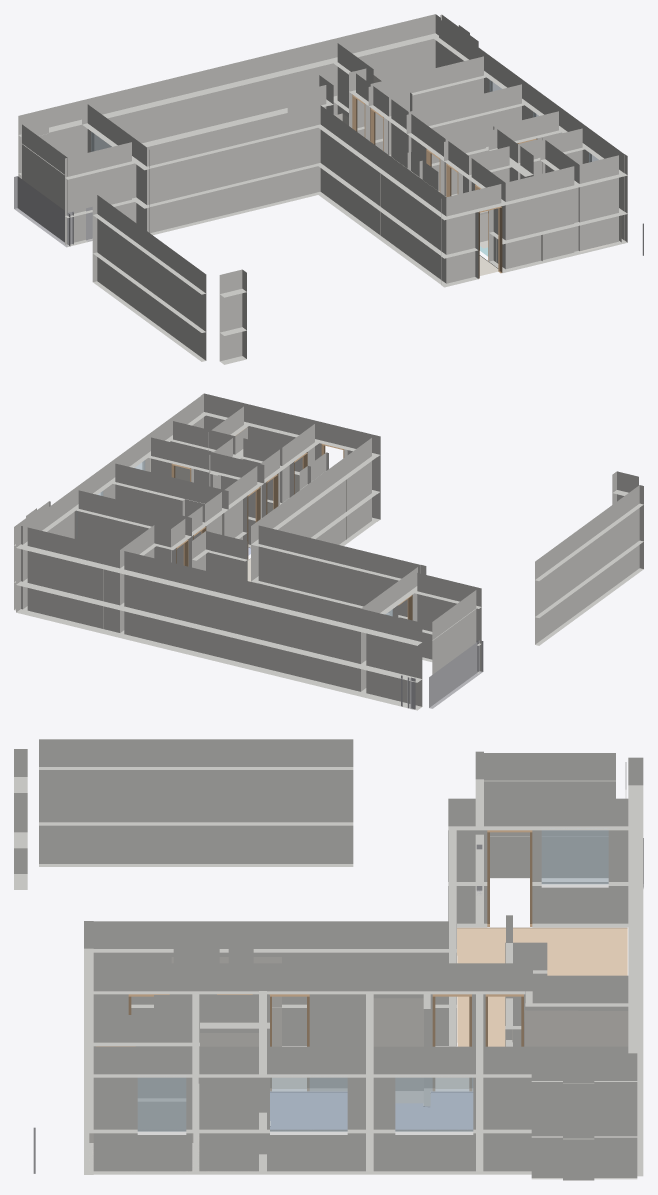
3 renders of one model, top to bottom at view 1: azimuth 30°, elevation 25°; view 2: azimuth 150°, elevation 25°; view 3: azimuth 270°, elevation 25°, orthographic. The views are drawn at different scales.
Parts seen in each view (by area): view 1: walls, railings, door_0; view 2: walls, railings; view 3: walls, floor_0_Living_Room, window_4, window_2, furniture_0_closet, window_1, furniture_1_closet, floor_5_Bed_Room, window_12, floor_4_Bed_Room, furniture_12_sauna_bench, furniture_3_closet (+3 smaller).
Boxes of the visible parts, <box> form: walls: <box>18,14,627,364</box>; railings: <box>14,176,643,255</box>; door_0: <box>478,206,502,278</box>; walls: <box>14,393,643,710</box>; railings: <box>401,640,483,709</box>; walls: <box>14,739,643,1180</box>; floor_0_Living_Room: <box>457,927,627,1046</box>; window_4: <box>395,1077,473,1131</box>; window_2: <box>270,1077,347,1131</box>; furniture_0_closet: <box>524,1010,628,1046</box>; window_1: <box>541,828,608,884</box>; furniture_1_closet: <box>373,998,423,1102</box>; floor_5_Bed_Room: <box>270,1092,347,1129</box>; window_12: <box>137,1077,186,1131</box>; floor_4_Bed_Room: <box>395,1092,472,1129</box>; furniture_12_sauna_bench: <box>89,1102,193,1171</box>; furniture_3_closet: <box>198,1033,258,1171</box>.
Bounding box in the file's own units: 14.7 × 2.72 × 12.36.
